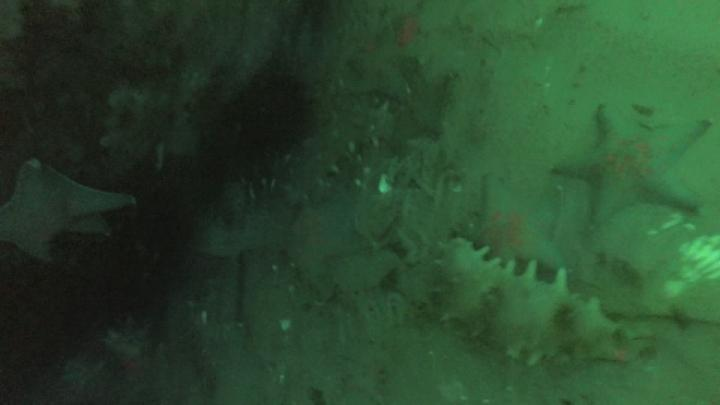echinus: (229, 69, 306, 150)
holothurian: (442, 239, 620, 370), (272, 118, 358, 201)
scallop: (612, 206, 720, 319)
starfish: (555, 100, 711, 225), (2, 160, 136, 263), (460, 177, 570, 269), (292, 196, 360, 273), (351, 29, 425, 98)
